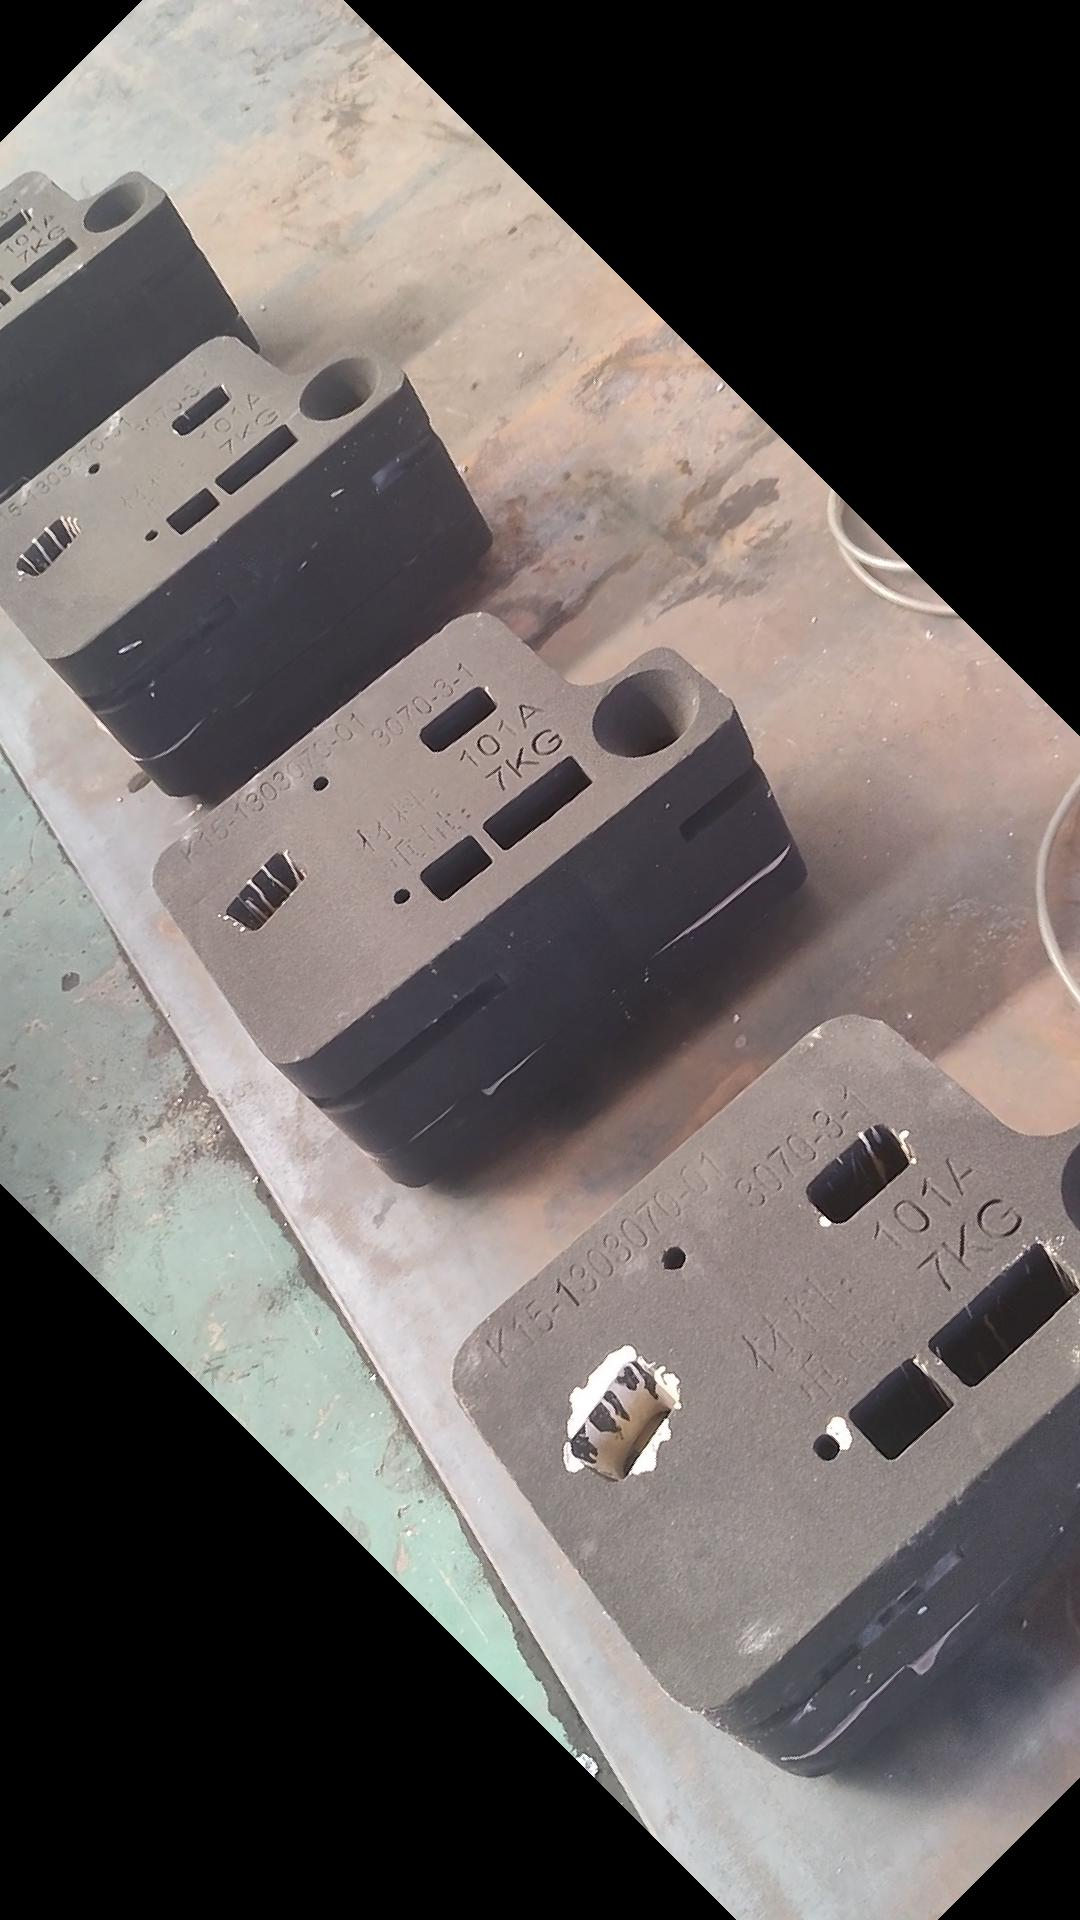pouring hole: (589, 666, 698, 758), (298, 355, 382, 419), (83, 181, 144, 235), (1058, 1131, 1080, 1234)
